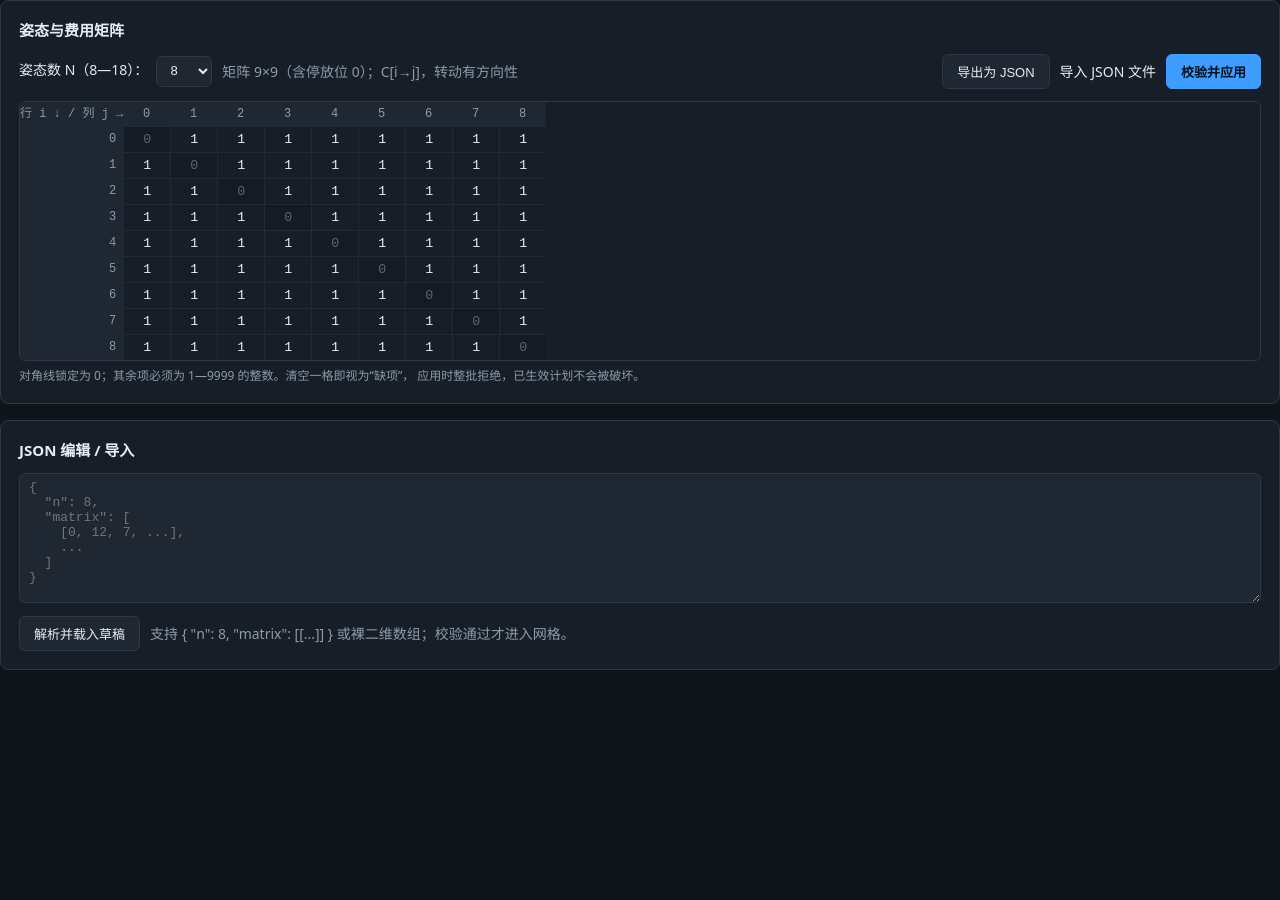
Test: MatrixEditor 组件 › 越界值（10000）就地标红并被拒绝
The image size is (1280, 900).
Replace the text in the field named "matrix[3" with "10000" at (335, 217), box [312,204,358,230]
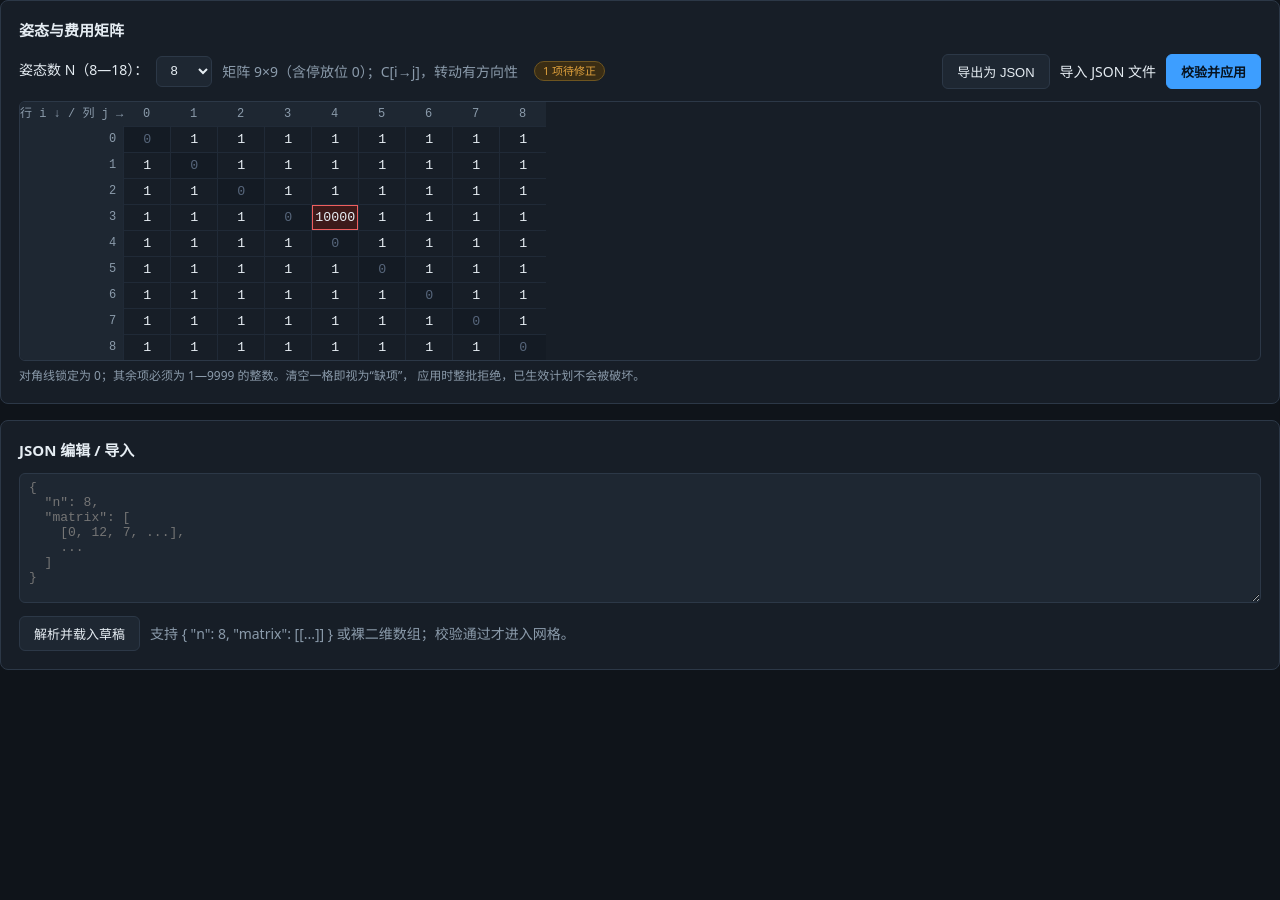
Now the field named "matrix[3" has class "invalid", box [312,204,358,230]
Click the button "校验并应用" at (1214, 71), box [1166,54,1261,88]
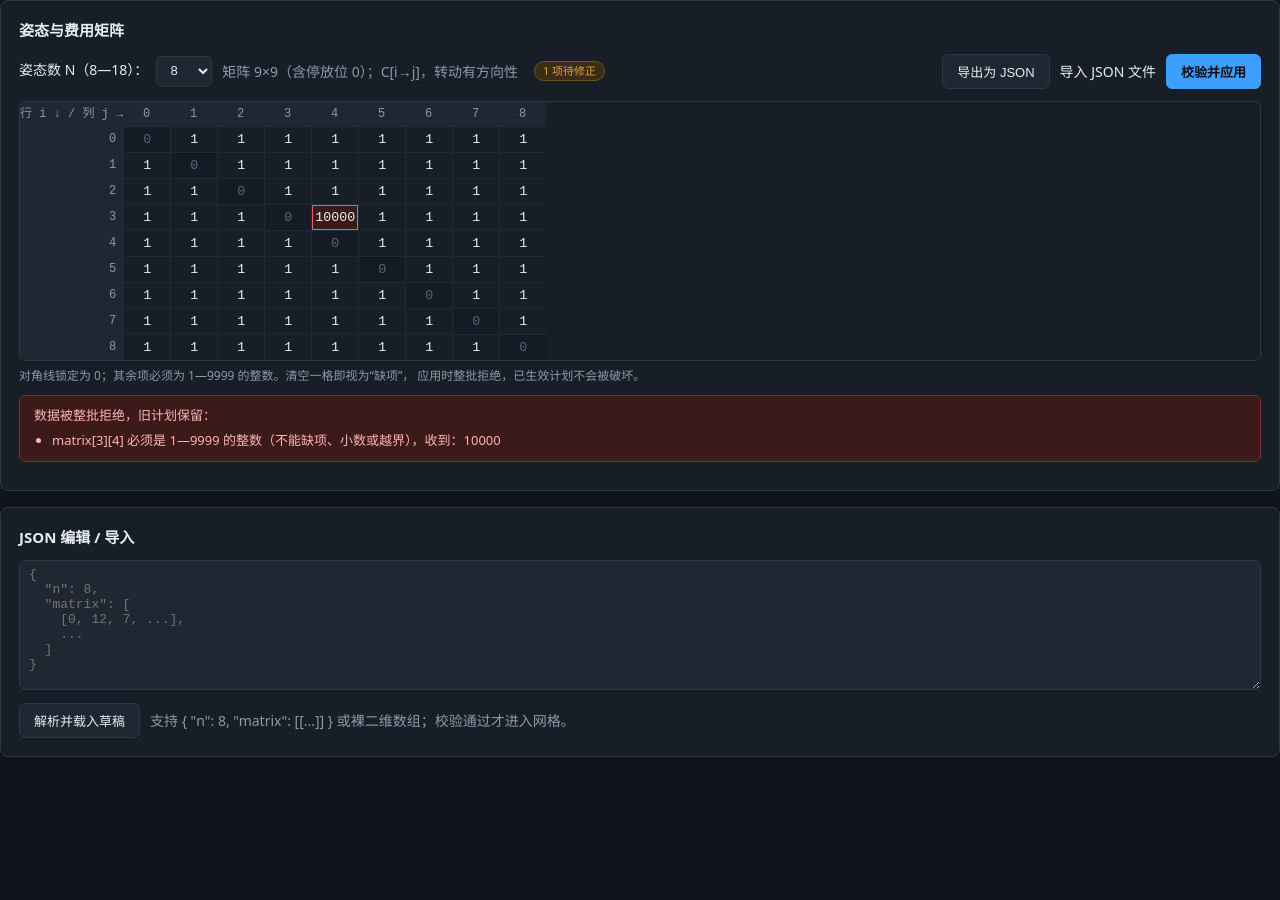
Now the message shows "matrix[3][4]", box [52,431,501,449]
